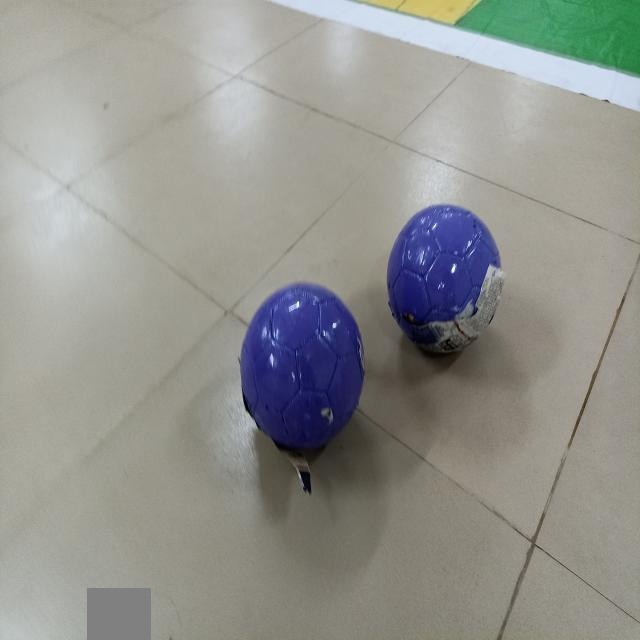purple_ball: (243, 277, 356, 442), (394, 208, 494, 326)
